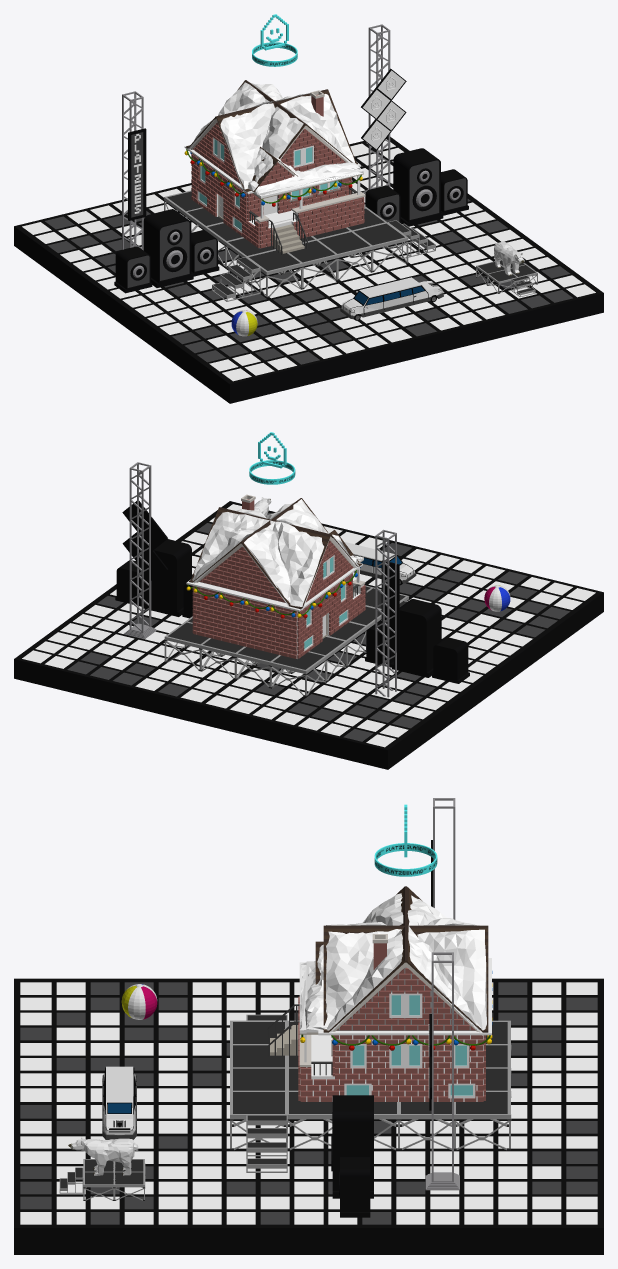
3 views of the same model, one above another, from view 1: azimuth 30°, elevation 25°; view 2: azimuth 150°, elevation 25°; view 3: azimuth 270°, elevation 25° (orthographic). The views are drawn at different scales.
Visible parts, largest first — view 1: Cube.008, Cube.1419, VEHICLES_LIMOUSINE, TYPE_PREMIUM, ANIMAL_OSO_POLAR, OBJRANDOM_BEACHBALL; view 2: Cube.008, Cube.1419, VEHICLES_LIMOUSINE, TYPE_PREMIUM, OBJRANDOM_BEACHBALL; view 3: Cube.008, Cube.1419, VEHICLES_LIMOUSINE, ANIMAL_OSO_POLAR, TYPE_PREMIUM, OBJRANDOM_BEACHBALL.
Part boxes in pixels (left/top/right/bottom): Cube.008: left=14, top=24, right=603, bottom=403; Cube.1419: left=184, top=80, right=365, bottom=254; VEHICLES_LIMOUSINE: left=340, top=277, right=443, bottom=320; TYPE_PREMIUM: left=252, top=14, right=297, bottom=66; ANIMAL_OSO_POLAR: left=494, top=241, right=524, bottom=275; OBJRANDOM_BEACHBALL: left=231, top=310, right=257, bottom=336; Cube.008: left=14, top=462, right=603, bottom=769; Cube.1419: left=186, top=494, right=366, bottom=658; VEHICLES_LIMOUSINE: left=344, top=542, right=416, bottom=585; TYPE_PREMIUM: left=249, top=432, right=295, bottom=484; OBJRANDOM_BEACHBALL: left=484, top=585, right=510, bottom=611; Cube.008: left=14, top=798, right=603, bottom=1254; Cube.1419: left=267, top=886, right=492, bottom=1101; VEHICLES_LIMOUSINE: left=102, top=1066, right=136, bottom=1139; ANIMAL_OSO_POLAR: left=68, top=1136, right=138, bottom=1175; TYPE_PREMIUM: left=374, top=804, right=437, bottom=876; OBJRANDOM_BEACHBALL: left=121, top=984, right=157, bottom=1019.
Size of the model in its own units: 4000 by 2664 by 4000.
47 materials, 2 textured.
